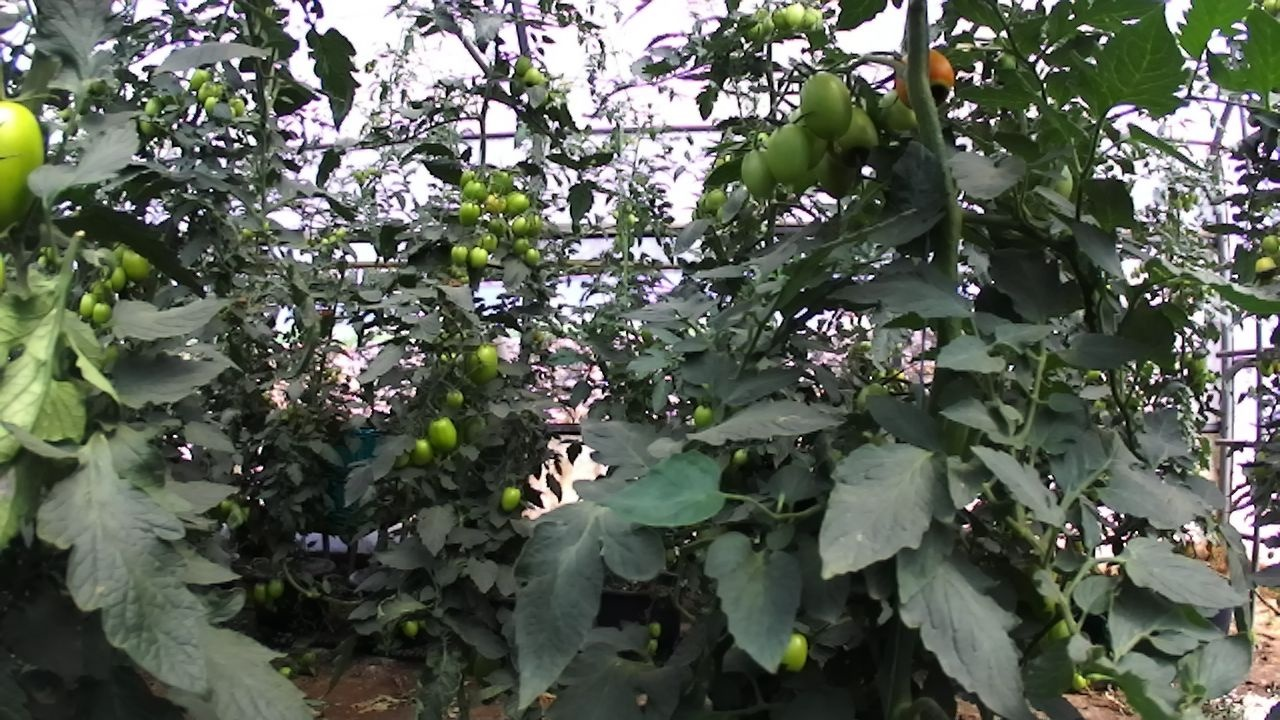tomato: (0, 82, 68, 239), (885, 41, 968, 117), (863, 76, 944, 153), (795, 63, 865, 148), (825, 96, 887, 176), (762, 116, 814, 195), (811, 138, 868, 206), (737, 141, 785, 208), (774, 627, 817, 680), (462, 339, 504, 391), (117, 243, 157, 288), (424, 413, 464, 457), (499, 181, 534, 223), (459, 173, 493, 210), (496, 480, 528, 517), (485, 164, 517, 201), (698, 183, 735, 214), (409, 432, 438, 470), (396, 611, 427, 645), (689, 399, 719, 434), (463, 240, 491, 277), (455, 198, 486, 230), (87, 297, 117, 330), (1250, 252, 1280, 285), (139, 89, 168, 123), (75, 286, 102, 322), (473, 227, 502, 260), (504, 70, 531, 105), (768, 3, 798, 34), (781, 0, 810, 32), (482, 188, 511, 219), (186, 64, 214, 96), (108, 262, 133, 297), (446, 240, 474, 270), (264, 573, 289, 605), (194, 76, 220, 105), (443, 384, 468, 414), (1258, 226, 1280, 260), (249, 578, 273, 608), (485, 212, 511, 239), (225, 93, 249, 122), (511, 50, 536, 77), (202, 91, 224, 121), (509, 211, 534, 237), (797, 7, 821, 32), (728, 445, 754, 468), (522, 63, 543, 91), (522, 243, 543, 270), (509, 235, 533, 258), (645, 618, 666, 641)
